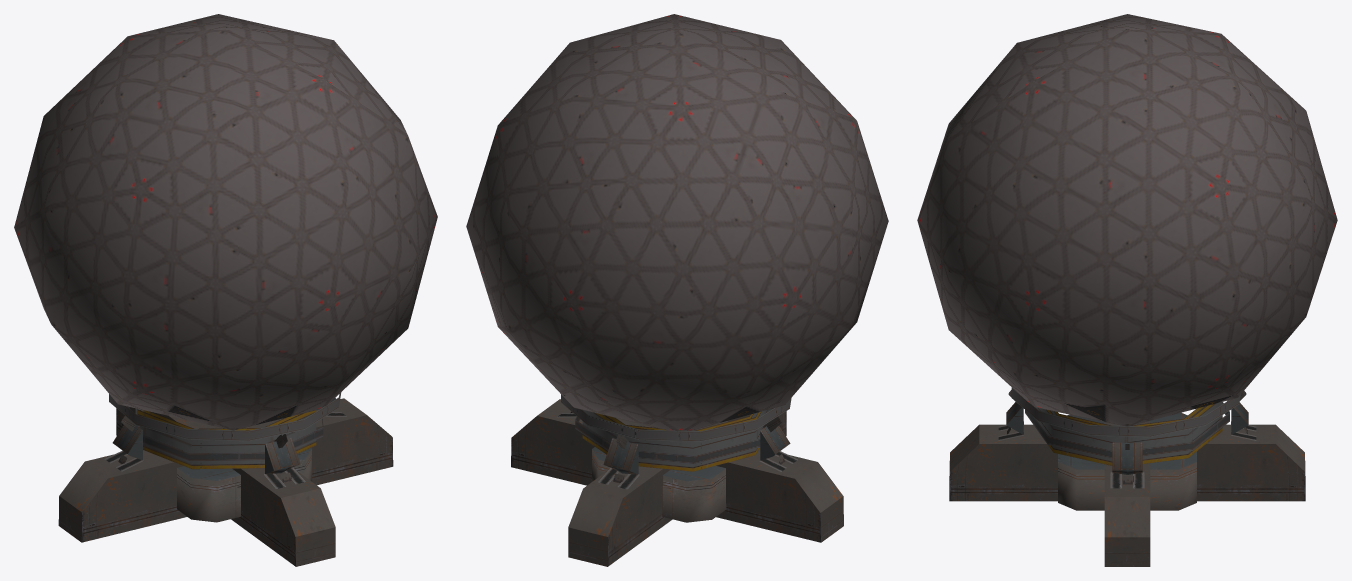
File: Radar_Sphere1_L3.fbx
3 renders of one model, left to right at view 1: azimuth 30°, elevation 25°; view 2: azimuth 150°, elevation 25°; view 3: azimuth 270°, elevation 25°, orthographic.
Visible parts, largest first — view 1: Sphere, Base; view 2: Sphere, Base; view 3: Sphere, Base.
Boxes of the visible parts, <box> form: Sphere: <box>14,14,437,430</box>; Base: <box>58,392,393,566</box>; Sphere: <box>466,14,888,430</box>; Base: <box>511,394,843,566</box>; Sphere: <box>917,14,1337,426</box>; Base: <box>949,387,1305,566</box>.
Bounding box in the file's own units: 279 × 356 × 294.
